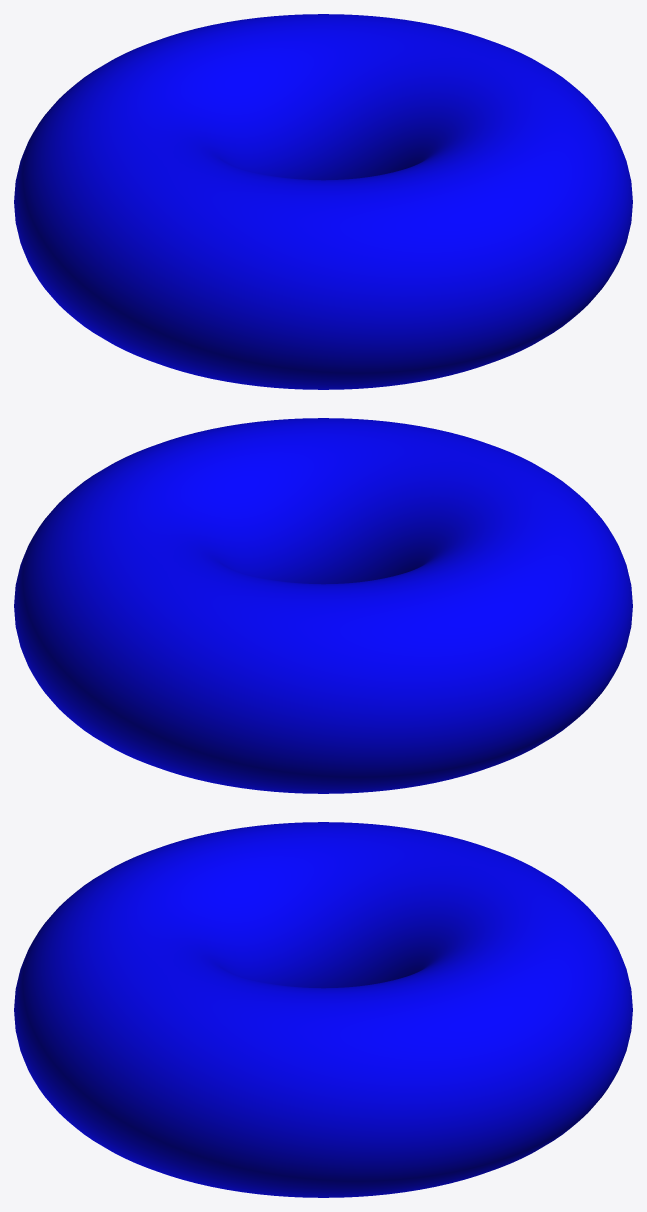
Rendered from ToroideAzul.obj.
3 views of the same model, one above another, from view 1: azimuth 30°, elevation 25°; view 2: azimuth 150°, elevation 25°; view 3: azimuth 270°, elevation 25° (orthographic).
Parts seen in each view (by area): view 1: Torus004; view 2: Torus004; view 3: Torus004.
Part boxes in pixels (box(x1,y1,x2,y2)): Torus004: box(14, 14, 632, 389); Torus004: box(14, 418, 632, 793); Torus004: box(14, 822, 632, 1197).
Bounding box in the file's own units: 15 × 5 × 15.
Materials: 1 (1 with a texture image).
